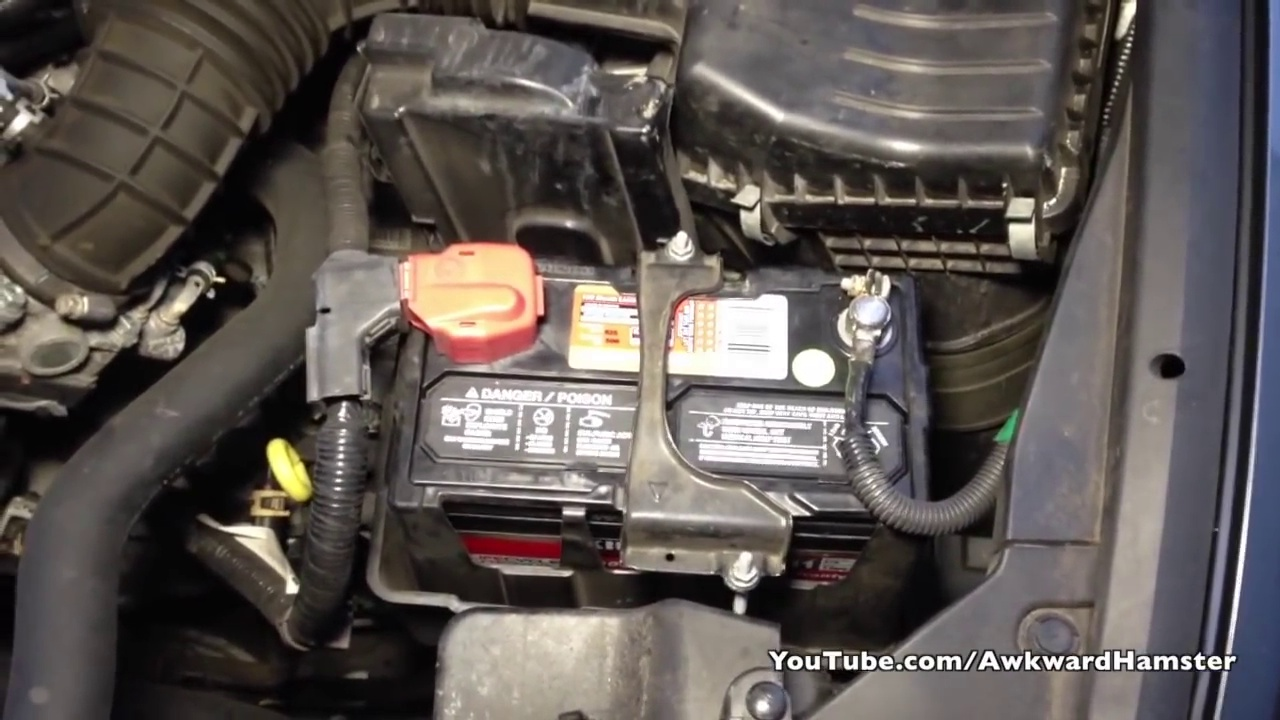battery: (371, 223, 921, 543)
neg_connected: (814, 252, 922, 430)
pos_connected: (366, 225, 557, 363)
